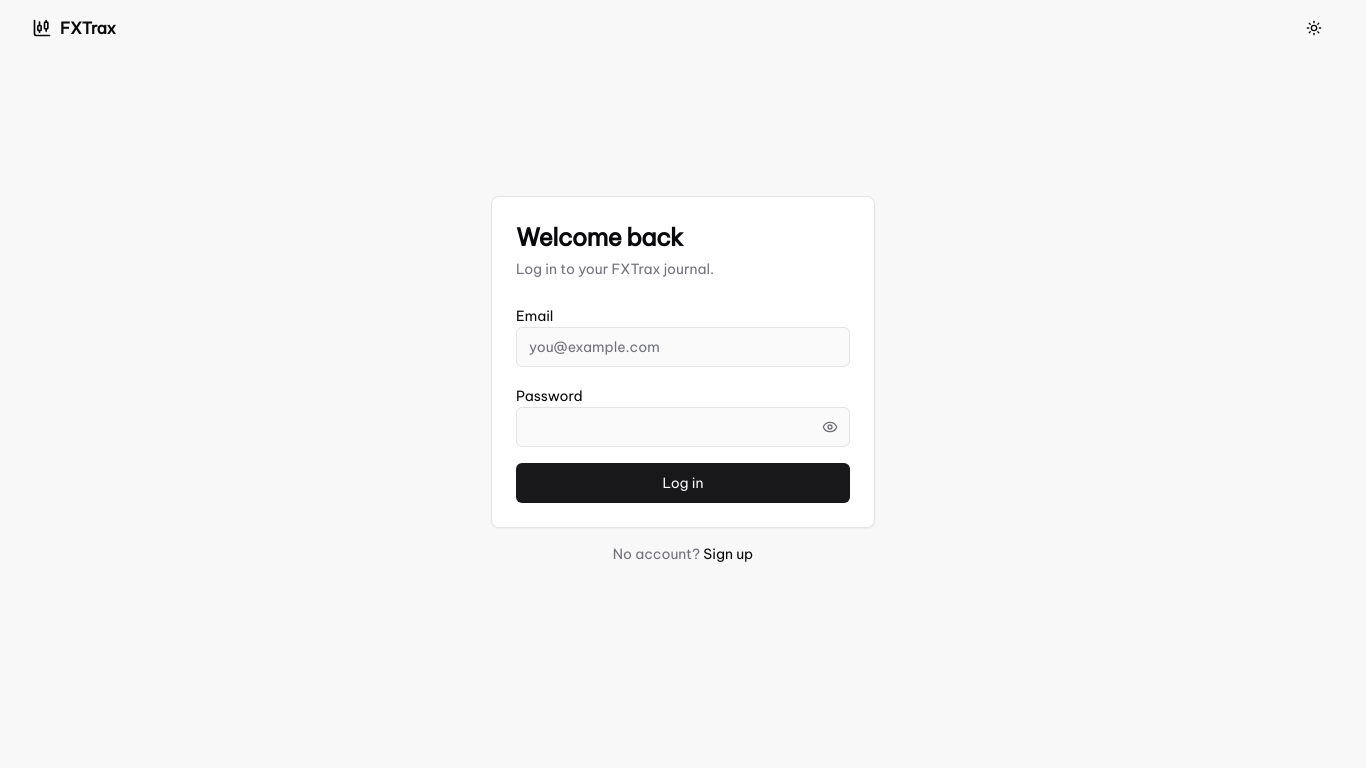
Test: login page › says the email or password is wrong on a 401
Type "trader@example.com" into the field labelled "Email".
click(683, 347); type("trader@example.com")  # box x1=516 y1=327 x2=850 y2=367
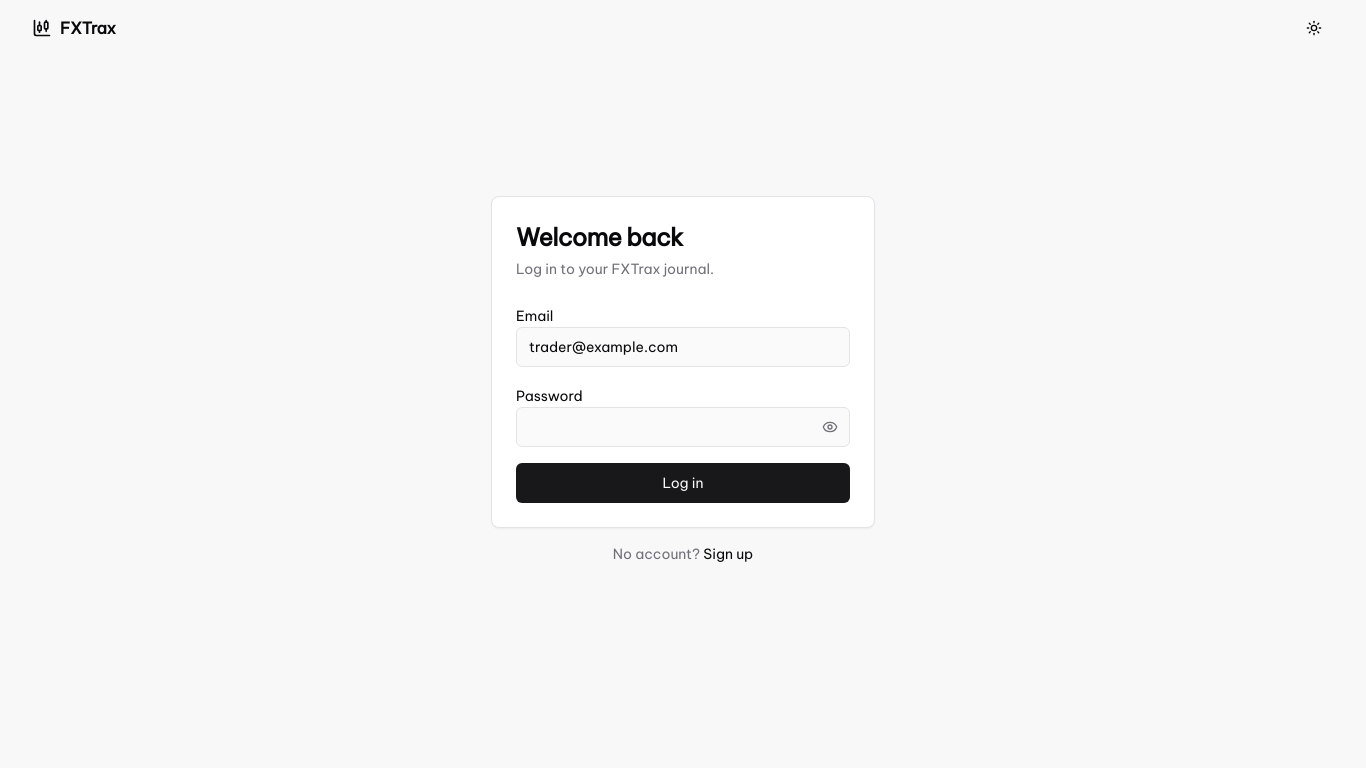
Type "secret123" into the password field labelled "Password".
click(683, 427); type("secret123")  # box x1=516 y1=407 x2=850 y2=447
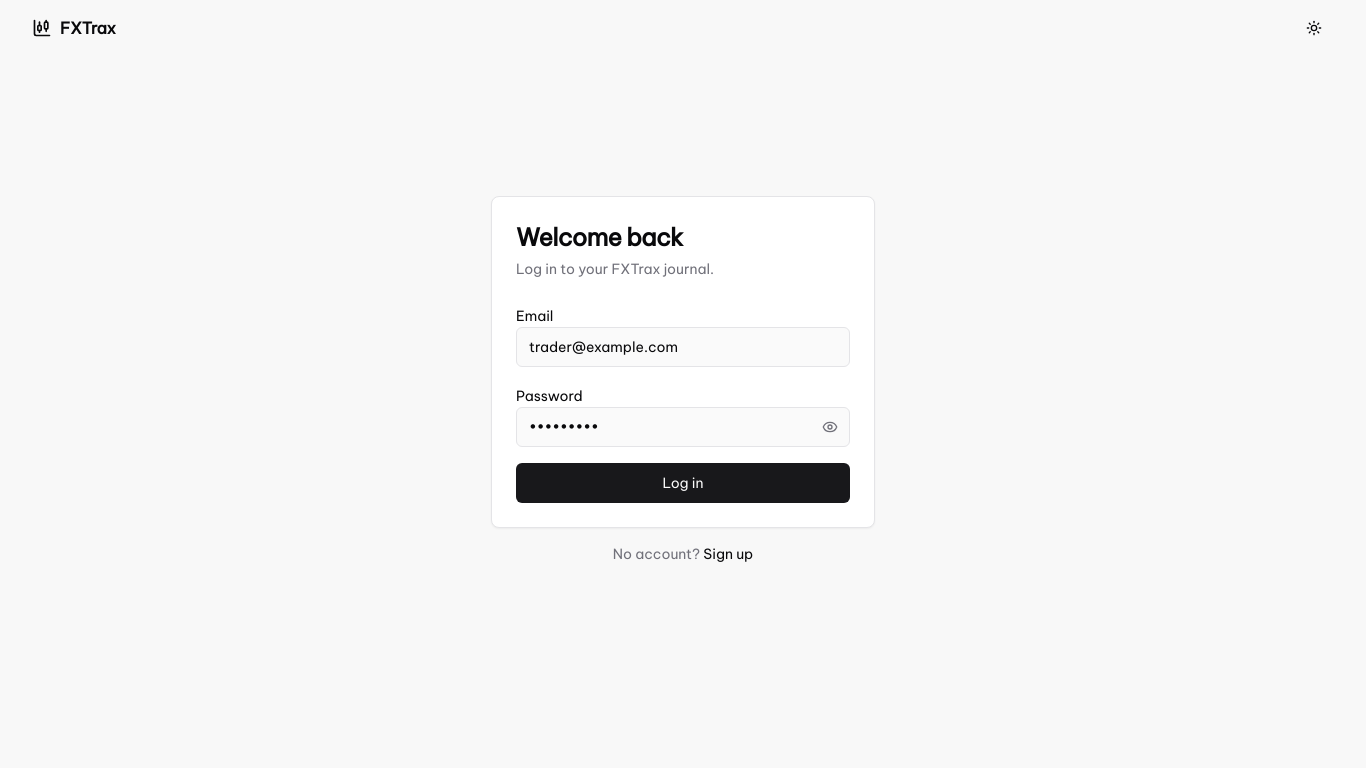
Click the button "Log in".
click(683, 483)  # box x1=516 y1=463 x2=850 y2=503
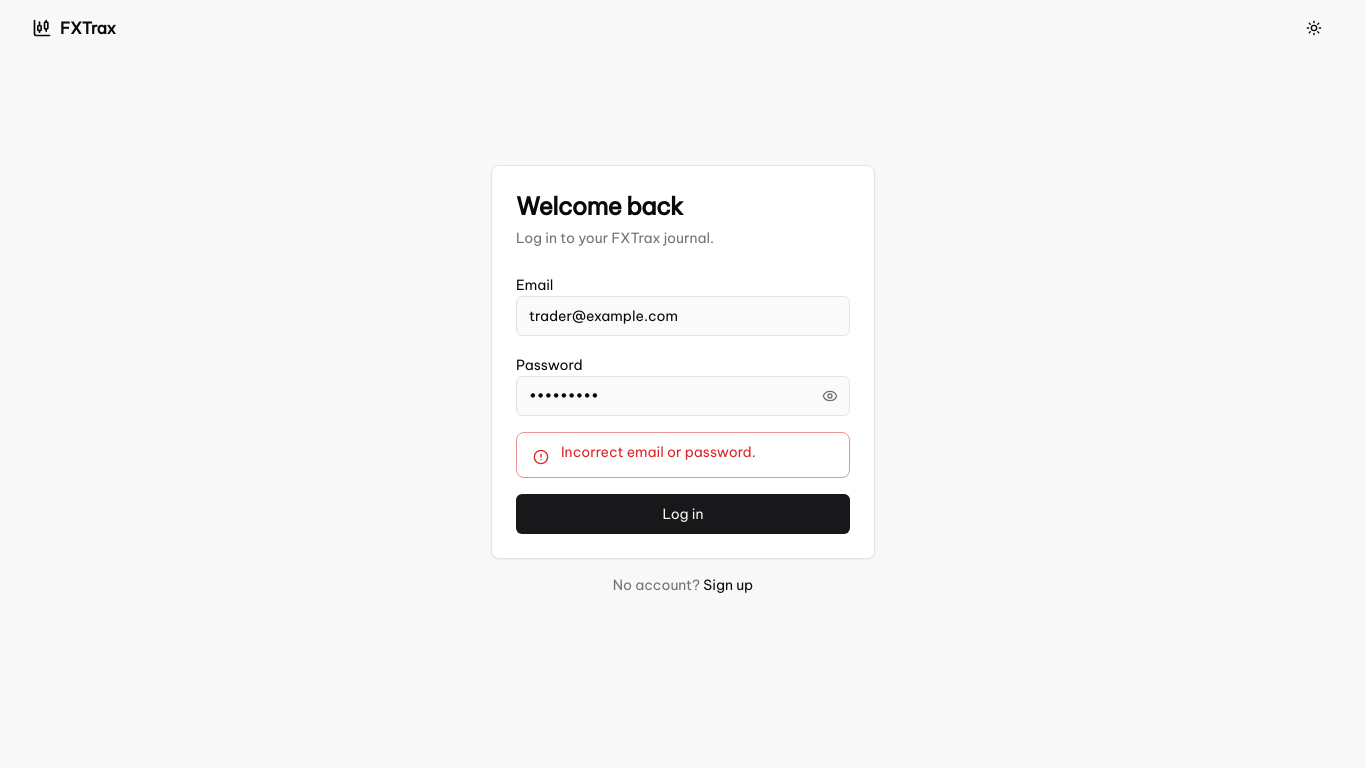
Expected: the message reads "Incorrect email or password.", x1=561 y1=443 x2=756 y2=461
